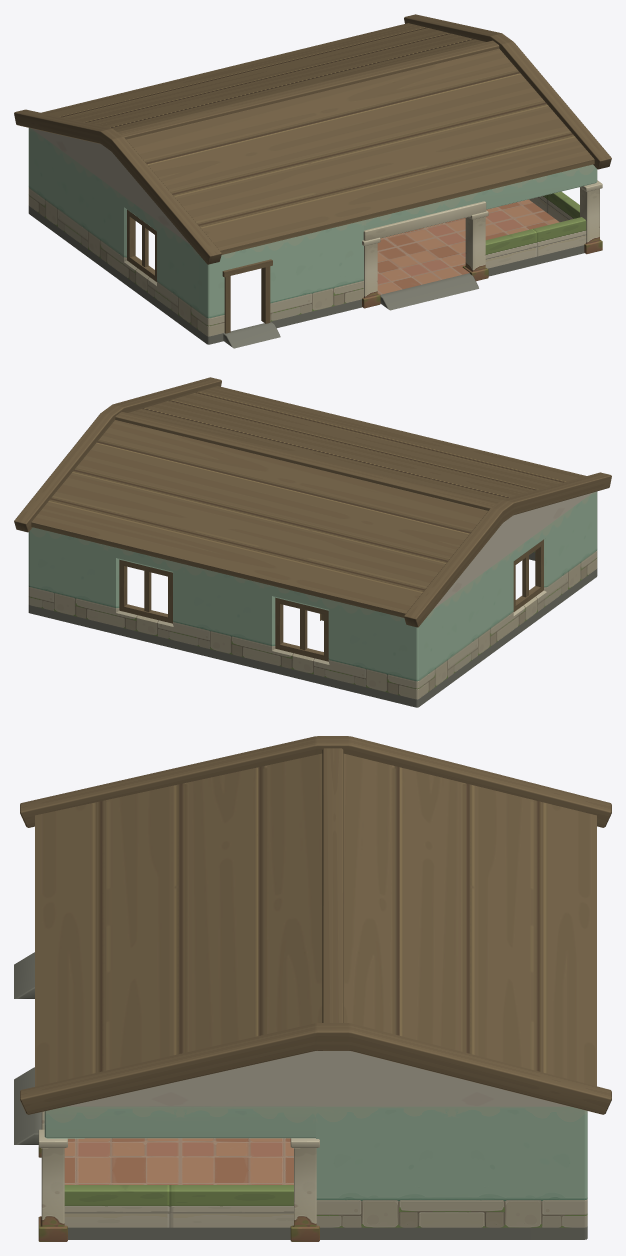
File: ShootingRange_Building_Universal_Brown_Out.fbx
3 renders of one model, top to bottom at view 1: azimuth 30°, elevation 25°; view 2: azimuth 150°, elevation 25°; view 3: azimuth 270°, elevation 25°, orthographic. The views are drawn at different scales.
Parts seen in each view (by area): view 1: ShootingRange_Building_Universal_Brown_Out; view 2: ShootingRange_Building_Universal_Brown_Out; view 3: ShootingRange_Building_Universal_Brown_Out.
Part boxes in pixels (box(x1,y1,x2,y2)): ShootingRange_Building_Universal_Brown_Out: box(14, 14, 611, 348); ShootingRange_Building_Universal_Brown_Out: box(14, 377, 611, 707); ShootingRange_Building_Universal_Brown_Out: box(14, 736, 611, 1241).
Bounding box in the file's own units: 2066 × 692 × 1762.
